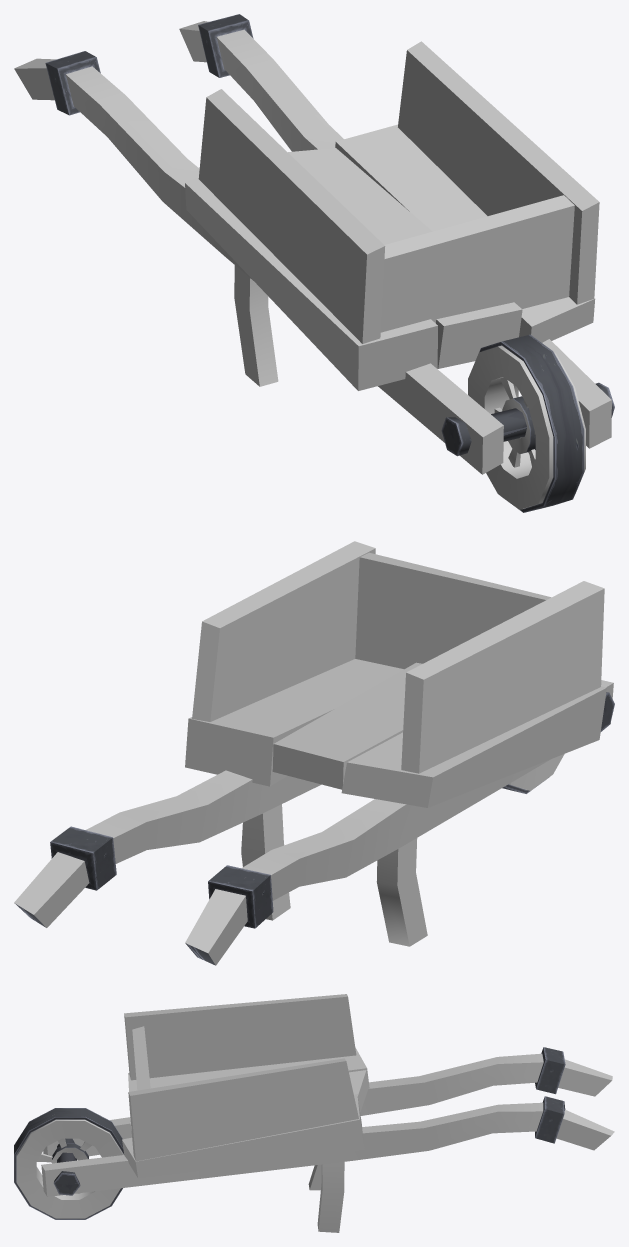
File: SM_PROP_wheelbarrow.fbx
3 views of the same model, one above another, from view 1: azimuth 30°, elevation 25°; view 2: azimuth 150°, elevation 25°; view 3: azimuth 270°, elevation 25° (orthographic). The views are drawn at different scales.
Visible parts, largest first — view 1: SM_PROP_wheelbarrow, SM_PROP_wheelbarrow_wheel; view 2: SM_PROP_wheelbarrow, SM_PROP_wheelbarrow_wheel; view 3: SM_PROP_wheelbarrow, SM_PROP_wheelbarrow_wheel.
Part boxes in pixels (x1,y1,x2,y2): SM_PROP_wheelbarrow: (14, 14, 614, 474); SM_PROP_wheelbarrow_wheel: (468, 334, 585, 512); SM_PROP_wheelbarrow: (14, 541, 614, 965); SM_PROP_wheelbarrow_wheel: (502, 754, 564, 793); SM_PROP_wheelbarrow: (41, 994, 614, 1232); SM_PROP_wheelbarrow_wheel: (14, 1108, 124, 1219).
Bounding box in the file's own units: 89.15 × 98.04 × 285.
